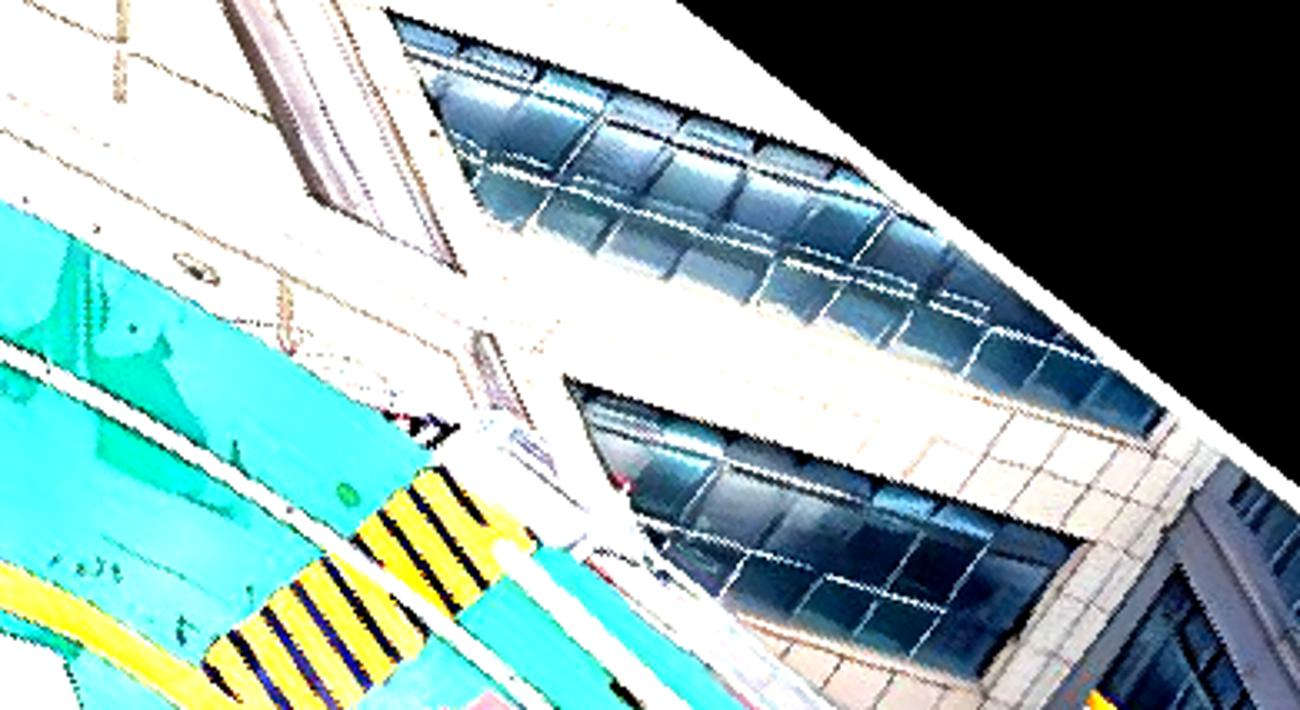Apron: (1, 554, 280, 708)
